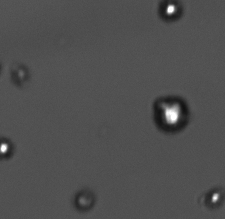Living Cell: (154, 96, 188, 132), (159, 1, 182, 20), (205, 188, 223, 207), (1, 138, 12, 162)
